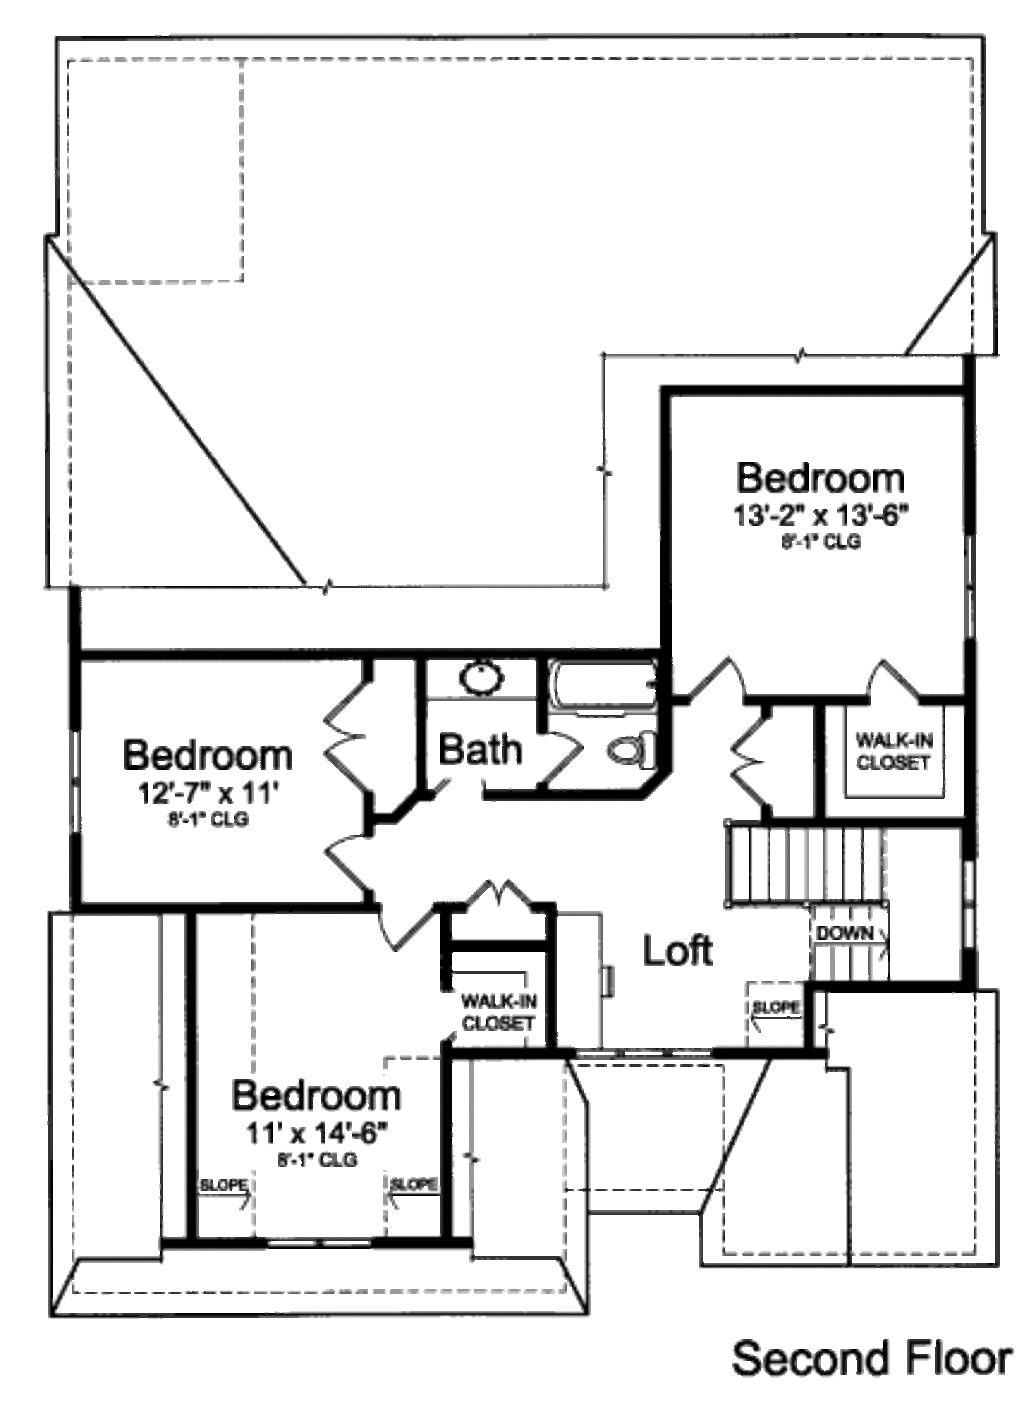door: (315, 679, 376, 807), (730, 707, 791, 814), (317, 830, 389, 911), (852, 651, 930, 714), (665, 651, 754, 701), (457, 868, 550, 913), (380, 894, 439, 959), (537, 727, 576, 792)
large_sink: (604, 714, 663, 777)
small_sink: (403, 659, 535, 698)
stairs: (685, 798, 915, 1053)
tub: (550, 659, 663, 707)
window: (267, 1222, 380, 1270), (61, 724, 100, 844), (950, 861, 987, 968), (948, 522, 980, 633)
